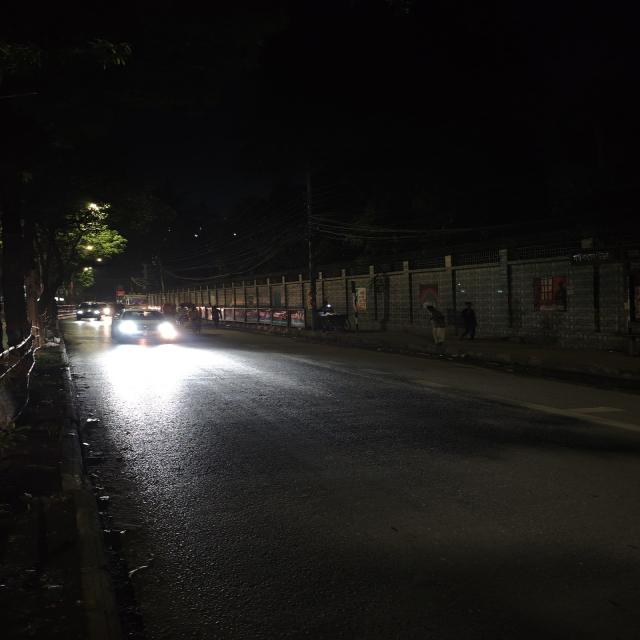car: (105, 304, 180, 350), (73, 301, 103, 321)
pedestrian: (419, 300, 456, 356), (457, 299, 482, 342), (208, 306, 228, 328)
rickshaw: (175, 301, 202, 331)
